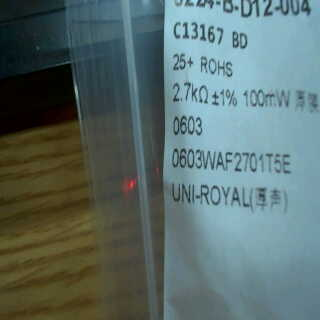2.7kR: (167, 77, 214, 111)
